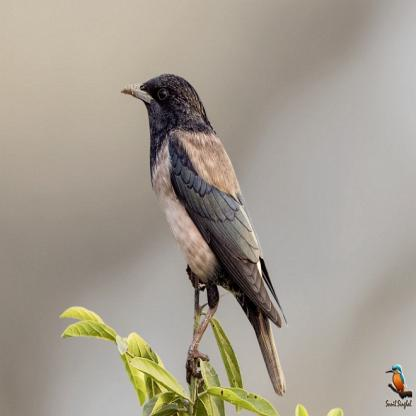Burung: (121, 75, 288, 396)
